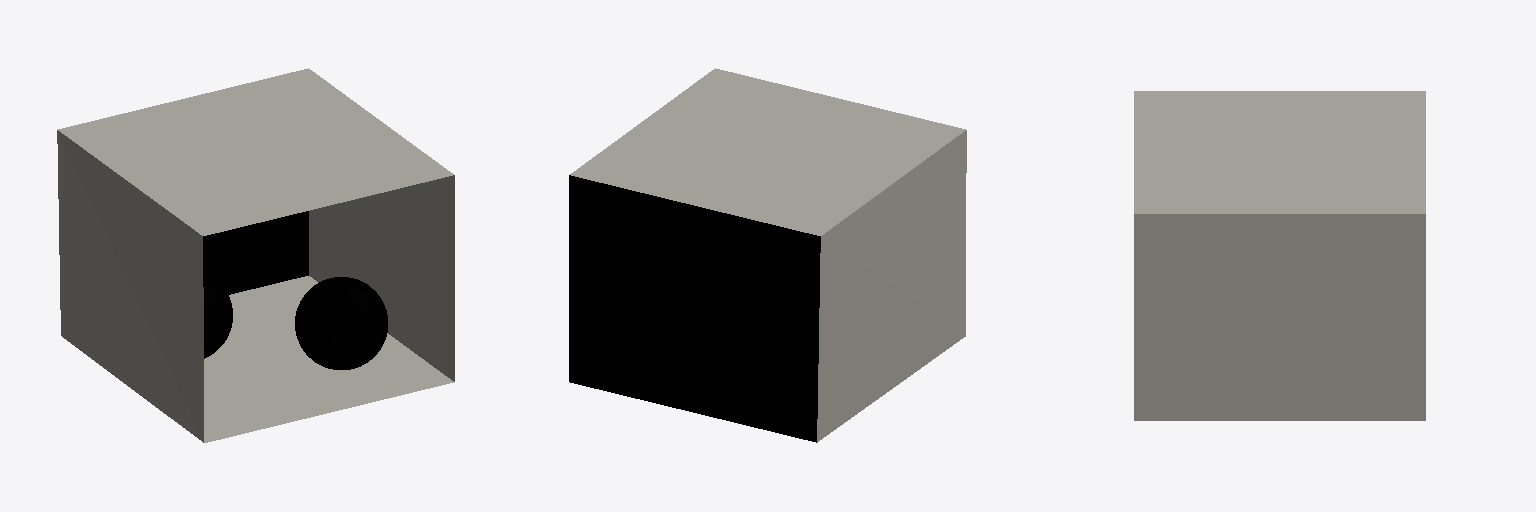
File: CornellBox-Sphere.obj
The picture shows the model from 3 angles: view 1: azimuth 30°, elevation 25°; view 2: azimuth 150°, elevation 25°; view 3: azimuth 270°, elevation 25°; orthographic projection.
Parts seen in each view (by area): view 1: ceiling, leftWall, floor, rightWall, rightSphere, backWall, leftSphere; view 2: backWall, ceiling, leftWall; view 3: rightWall, ceiling.
Boxes of the visible parts, x1=… form: ceiling: x1=58, y1=68, x2=453, y2=235; leftWall: x1=57, y1=130, x2=203, y2=442; floor: x1=204, y1=276, x2=453, y2=442; rightWall: x1=309, y1=175, x2=454, y2=381; rightSphere: x1=295, y1=277, x2=387, y2=369; backWall: x1=203, y1=211, x2=308, y2=294; leftSphere: x1=203, y1=272, x2=232, y2=358; backWall: x1=569, y1=175, x2=820, y2=442; ceiling: x1=570, y1=68, x2=965, y2=235; leftWall: x1=817, y1=130, x2=966, y2=442; rightWall: x1=1134, y1=214, x2=1425, y2=420; ceiling: x1=1134, y1=91, x2=1425, y2=213.
Bounding box in the file's own units: 2.02 × 1.59 × 2.03.